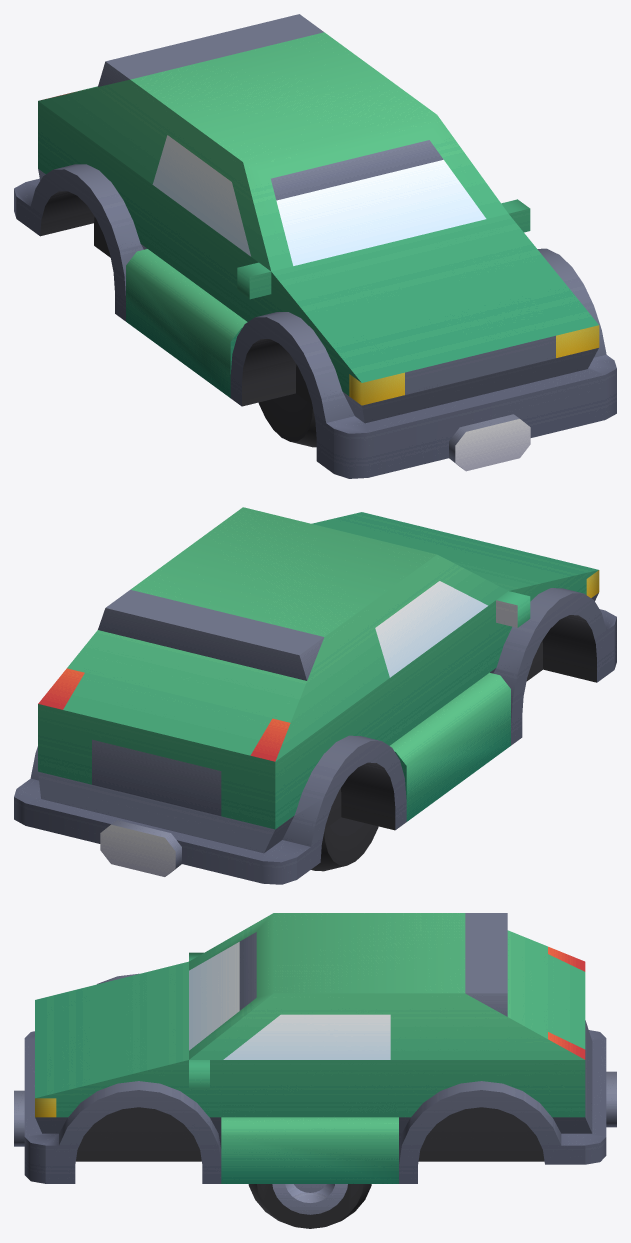
File: car.glb
3 views of the same model, one above another, from view 1: azimuth 30°, elevation 25°; view 2: azimuth 150°, elevation 25°; view 3: azimuth 270°, elevation 25° (orthographic). The views are drawn at different scales.
Visible parts, largest first — view 1: body.005, wheel.005; view 2: body.005, wheel.005; view 3: body.005, wheel.005.
Part boxes in pixels (x1,y1,x2,y2): body.005: (14,14,616,478); wheel.005: (258,393,316,447); body.005: (14,507,616,884); wheel.005: (311,817,378,871); body.005: (14,913,616,1183); wheel.005: (248,1184,371,1228).
Bounding box in the file's own units: 1.3 × 1.4 × 2.85.
1 material, 1 textured.
